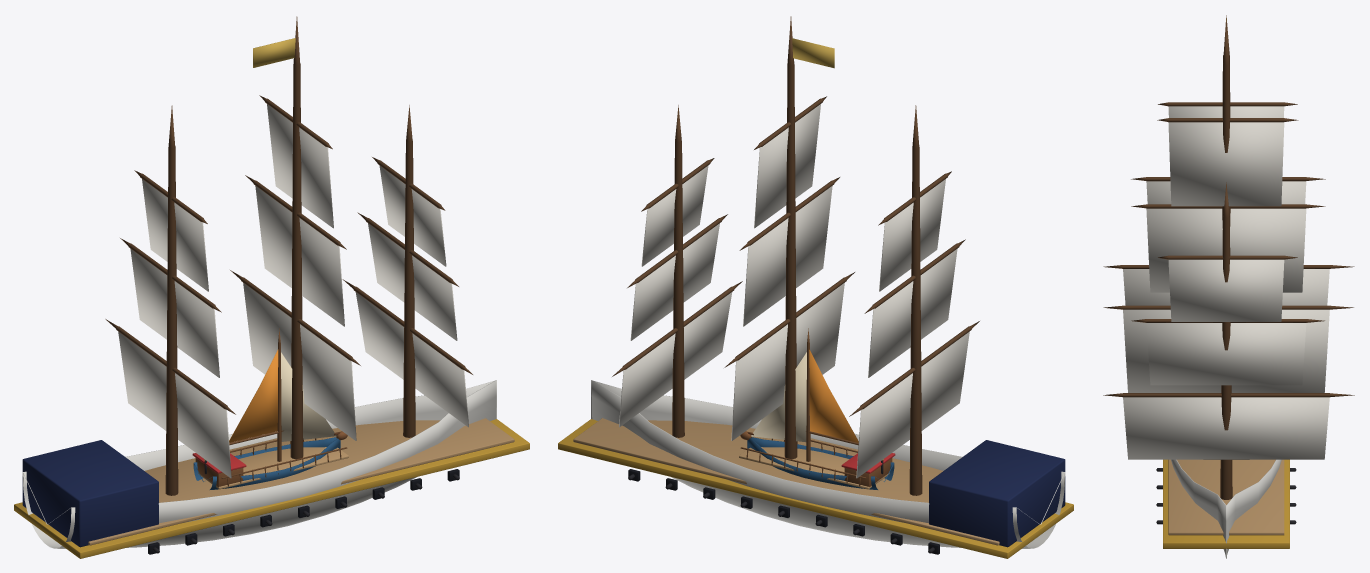
The model's file is ships.glb.
3 renders of one model, left to right at view 1: azimuth 30°, elevation 25°; view 2: azimuth 150°, elevation 25°; view 3: azimuth 270°, elevation 25°, orthographic. The views are drawn at different scales.
Parts seen in each view (by area): view 1: frigate, wren; view 2: frigate, wren; view 3: frigate.
Part boxes in pixels (<box>): frigate: <box>14,16,529,558</box>; wren: <box>192,328,348,489</box>; frigate: <box>558,16,1073,558</box>; wren: <box>739,328,895,489</box>; frigate: <box>1103,15,1354,558</box>.
Size of the model in its own units: 36 by 38.3 by 18.38.
